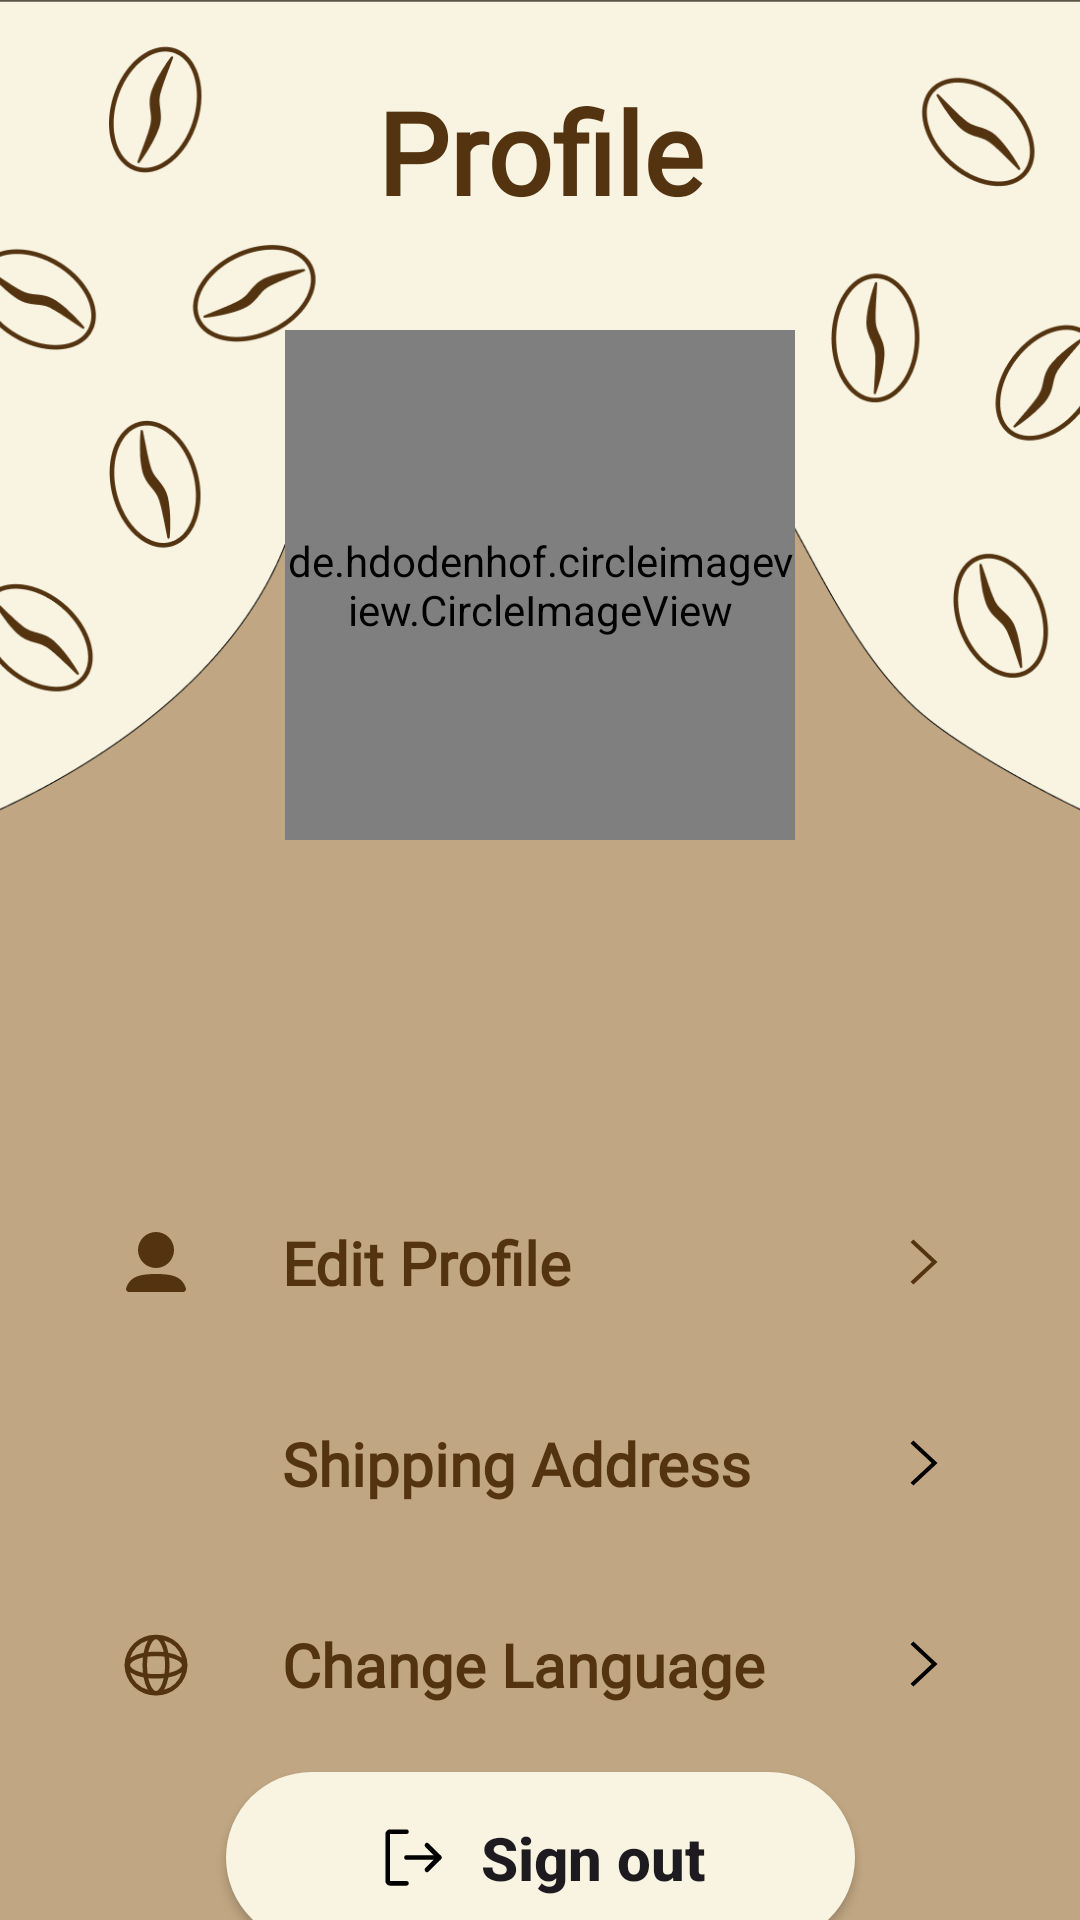

Icons on this 1080px x 1920px Android screen, each with its box as (x1, y1, x2, y2):
arrow: (910, 1440, 937, 1486), (910, 1641, 937, 1687)
arrow icon: (911, 1239, 937, 1285)
User icon: (126, 1232, 186, 1292)
